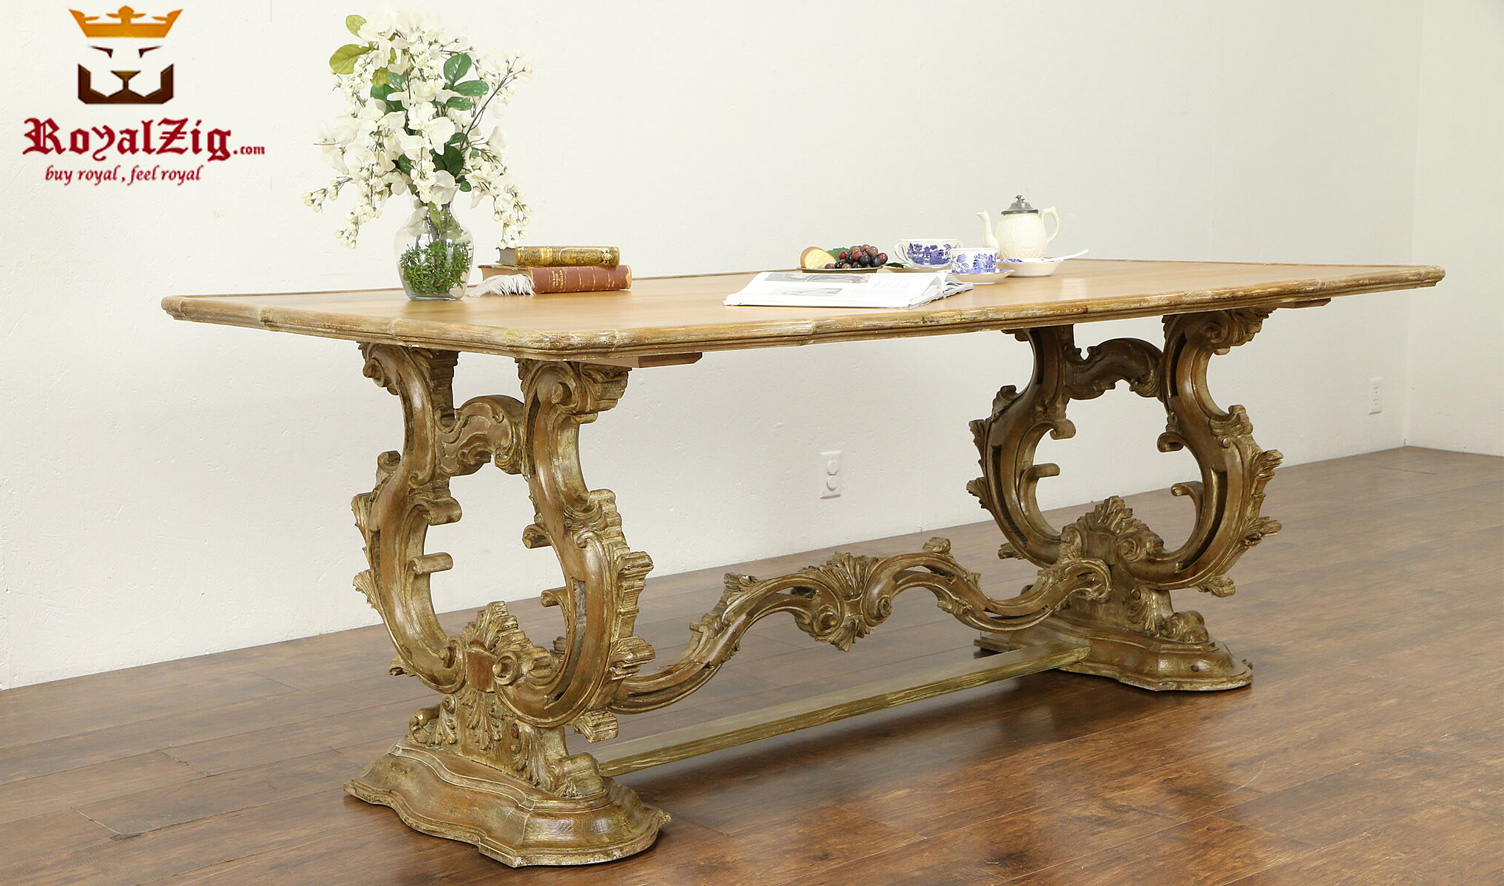conference_table: (165, 256, 1445, 867)
